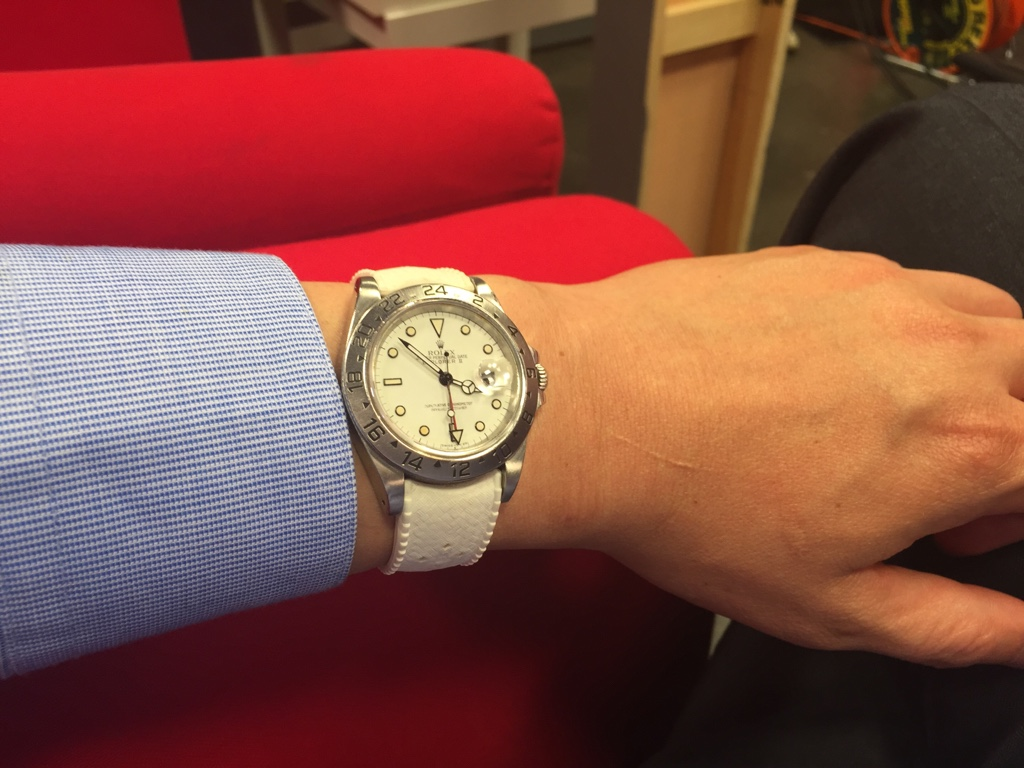clock: (369, 309, 523, 457)
